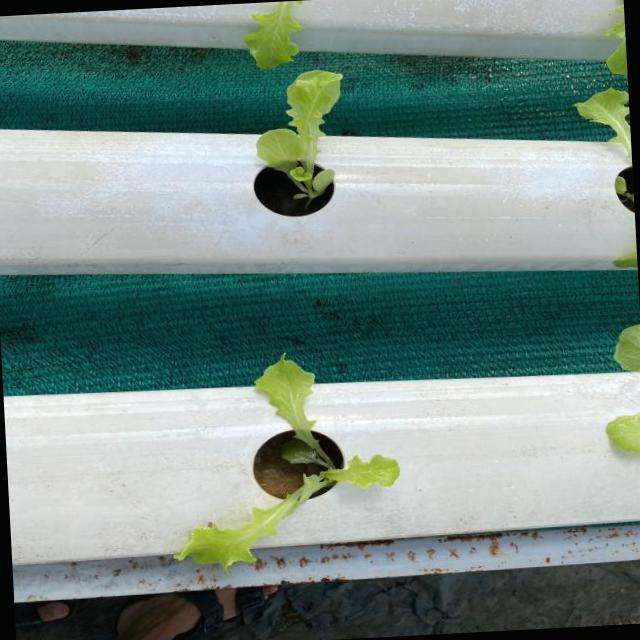Lettuce-Not-Ready-to-Harvest: (175, 356, 399, 570), (257, 70, 342, 200), (244, 1, 303, 69), (577, 88, 632, 159)
